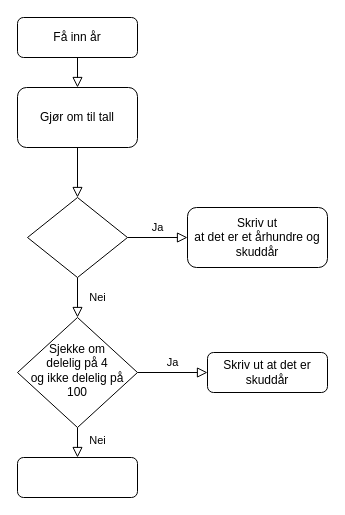
The diagram is 345 pixels wide and 515 high, and some of its shapes have lost their labels. Here are the shapes that lost their labels. From the top down, the centre of each, then its label:
At (x=77, y=237): "Sjekk om delelig på 400".
At (x=77, y=477): "Skriv ut at det ikke er skuddår".
